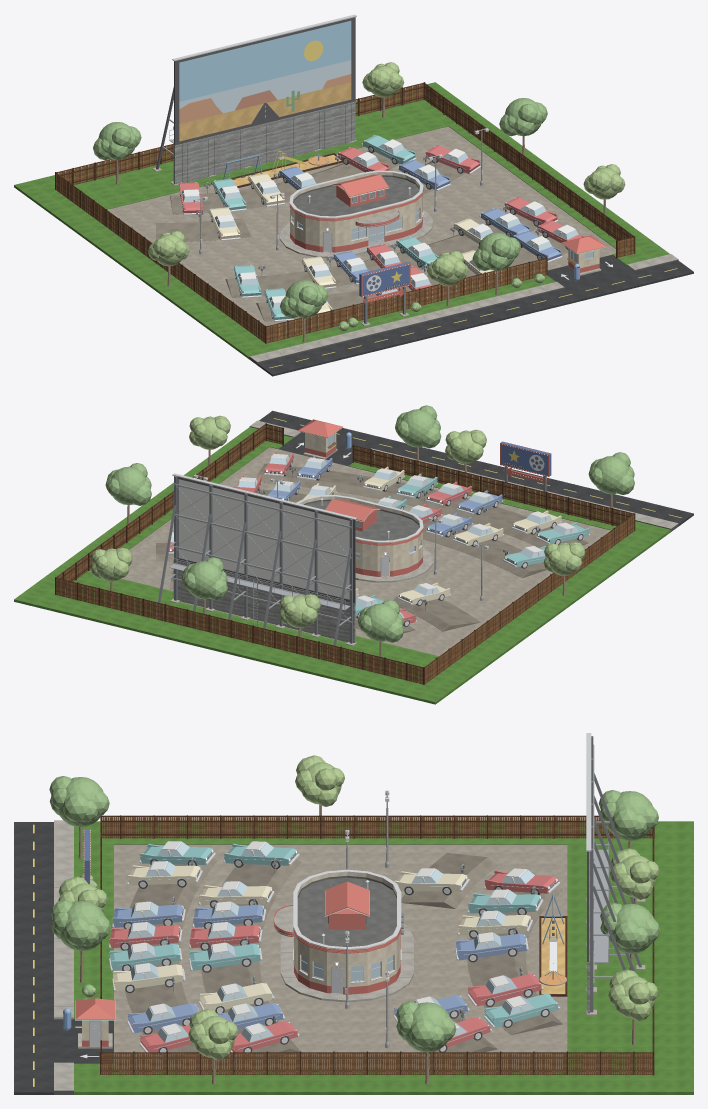
File: building_assembled.glb
3 renders of one model, top to bottom at view 1: azimuth 30°, elevation 25°; view 2: azimuth 150°, elevation 25°; view 3: azimuth 270°, elevation 25°, orthographic. The views are drawn at different scales.
Visible parts, largest first — view 1: geometry_300, geometry_293, geometry_298, geometry_314, geometry_304, geometry_294, geometry_306, geometry_305, geometry_426, geometry_310, geometry_159, geometry_318 (+18 smaller); view 2: geometry_300, geometry_293, geometry_303, geometry_298, geometry_316, geometry_524, geometry_314, geometry_317, geometry_426, geometry_294, geometry_388, geometry_813 (+18 smaller); view 3: geometry_300, geometry_293, geometry_298, geometry_294, geometry_159, geometry_426, geometry_524, geometry_388, geometry_318, geometry_316, geometry_817, geometry_809 (+68 smaller).
Part boxes in pixels (x1,y1,x2,y2): geometry_300: [14, 82, 669, 359]; geometry_293: [107, 126, 615, 335]; geometry_298: [257, 255, 693, 376]; geometry_314: [173, 101, 355, 184]; geometry_304: [179, 20, 351, 101]; geometry_294: [250, 210, 678, 361]; geometry_306: [179, 82, 351, 141]; geometry_305: [179, 60, 351, 113]; geometry_426: [225, 214, 537, 297]; geometry_310: [174, 17, 355, 145]; geometry_159: [293, 176, 419, 216]; geometry_318: [170, 151, 399, 214]; geometry_300: [14, 427, 671, 704]; geometry_293: [121, 447, 610, 656]; geometry_303: [178, 479, 349, 599]; geometry_298: [259, 410, 693, 526]; geometry_316: [156, 476, 352, 656]; geometry_524: [257, 463, 589, 547]; geometry_314: [173, 560, 355, 642]; geometry_317: [163, 483, 351, 626]; geometry_426: [233, 487, 546, 578]; geometry_294: [250, 420, 678, 582]; geometry_388: [155, 543, 480, 631]; geometry_813: [395, 405, 441, 448]; geometry_300: [74, 821, 693, 1094]; geometry_293: [114, 844, 567, 1068]; geometry_298: [14, 822, 113, 1094]; geometry_294: [54, 820, 413, 1090]; geometry_159: [297, 877, 396, 946]; geometry_426: [201, 859, 301, 1060]; geometry_524: [121, 858, 216, 1060]; geometry_388: [401, 853, 497, 1060]; geometry_318: [467, 886, 562, 1034]; geometry_316: [590, 736, 641, 1012]; geometry_817: [396, 1001, 456, 1052]; geometry_809: [49, 776, 109, 827].
Size of the model in its own units: 49.54 by 14 by 51.
Materials: 65 (13 with a texture image).
